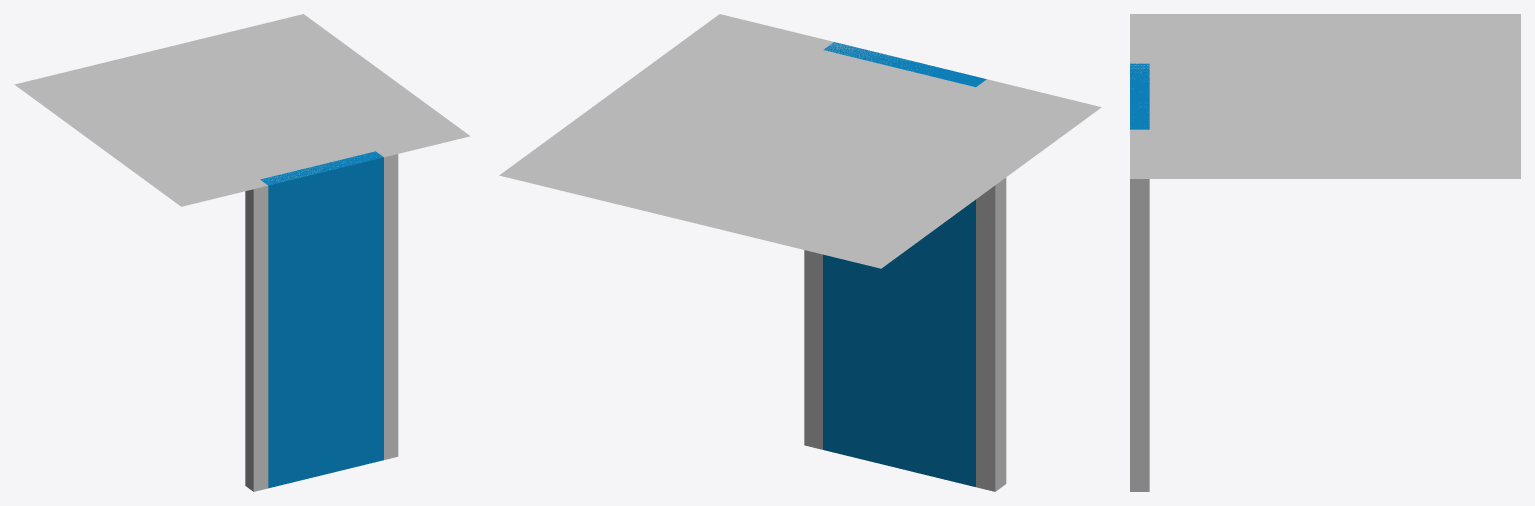
File: ladder.fbx
3 renders of one model, left to right at view 1: azimuth 30°, elevation 25°; view 2: azimuth 150°, elevation 25°; view 3: azimuth 270°, elevation 25°, orthographic. The views are drawn at different scales.
Visible parts, largest first — view 1: body, top; view 2: top, body; view 3: top, body.
Boxes of the visible parts, <box> form: body: <box>245,148,398,491</box>; top: <box>14,14,470,206</box>; top: <box>499,14,1101,268</box>; body: <box>804,37,1006,491</box>; top: <box>1130,14,1520,178</box>; body: <box>1130,55,1149,491</box>.
Bounding box in the file's own units: 100 × 100 × 100.
